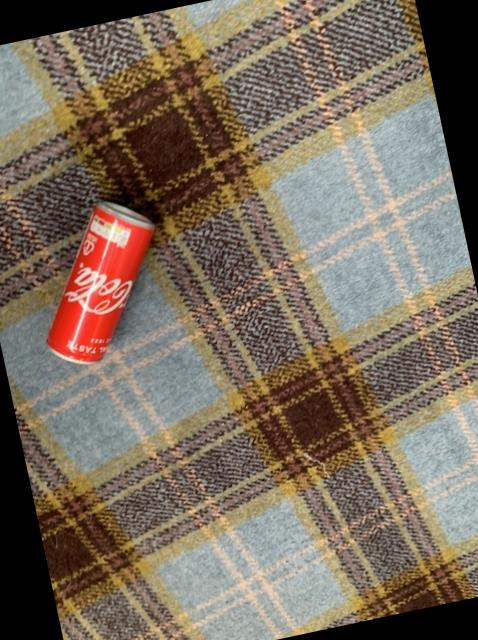metal: (45, 199, 152, 361)
